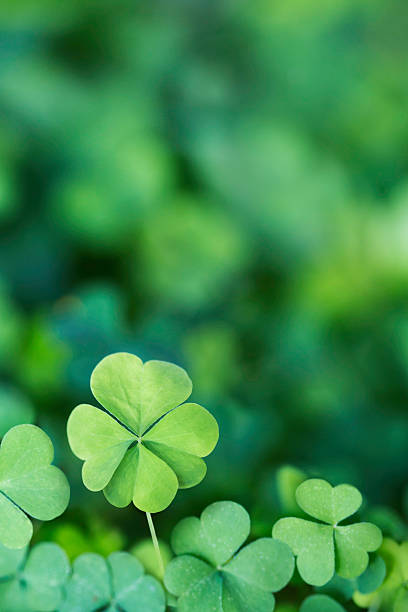daikon: (53, 347, 233, 529), (150, 495, 297, 612), (280, 468, 390, 585)
